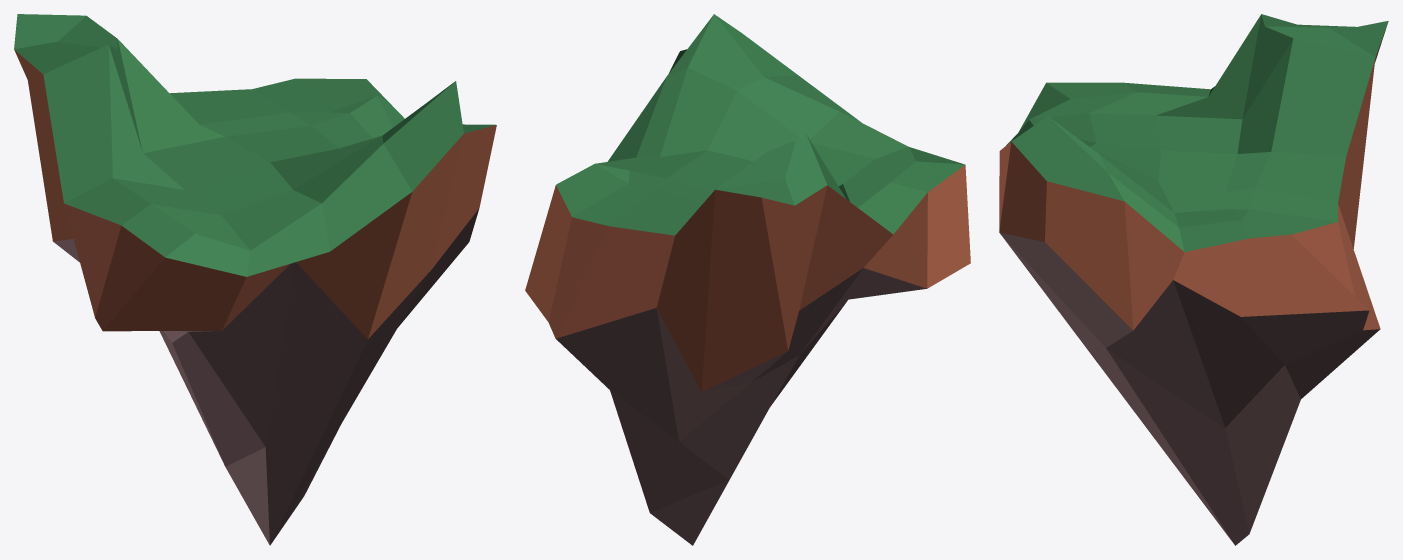
Rendered from island2.fbx.
The picture shows the model from 3 angles, left to right: view 1: azimuth 30°, elevation 25°; view 2: azimuth 150°, elevation 25°; view 3: azimuth 270°, elevation 25°; orthographic projection. The views are drawn at different scales.
Visible parts, largest first — view 1: Island2; view 2: Island2; view 3: Island2.
Part boxes in pixels (box(x1,y1,x2,y2)): Island2: box(14, 14, 496, 545); Island2: box(525, 14, 970, 545); Island2: box(999, 14, 1388, 545).
Bounding box in the file's own units: 710 × 666 × 883.
